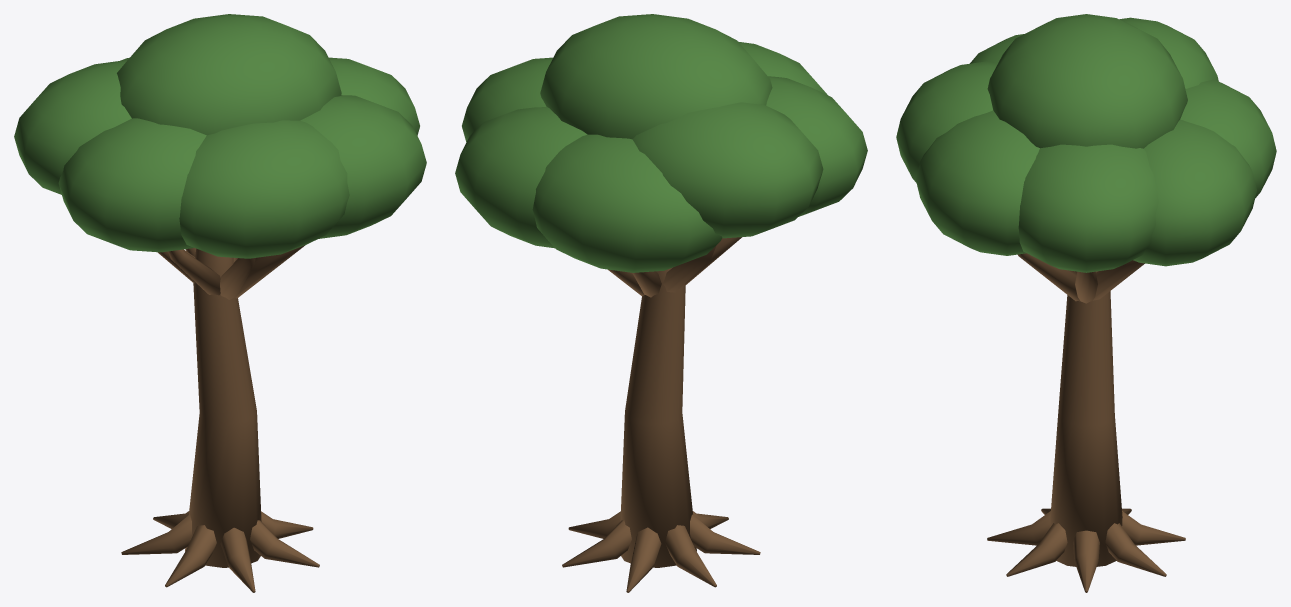
File: arvore.glb
3 views of the same model, side by side, from view 1: azimuth 30°, elevation 25°; view 2: azimuth 150°, elevation 25°; view 3: azimuth 270°, elevation 25° (orthographic).
Parts seen in each view (by area): view 1: SM_arvore; view 2: SM_arvore; view 3: SM_arvore.
Boxes of the visible parts, box(x1,y1,x2,y2) form: SM_arvore: box(14, 14, 426, 592); SM_arvore: box(455, 14, 867, 592); SM_arvore: box(896, 14, 1276, 592).
Bounding box in the file's own units: 4.1 × 5.66 × 3.75.
